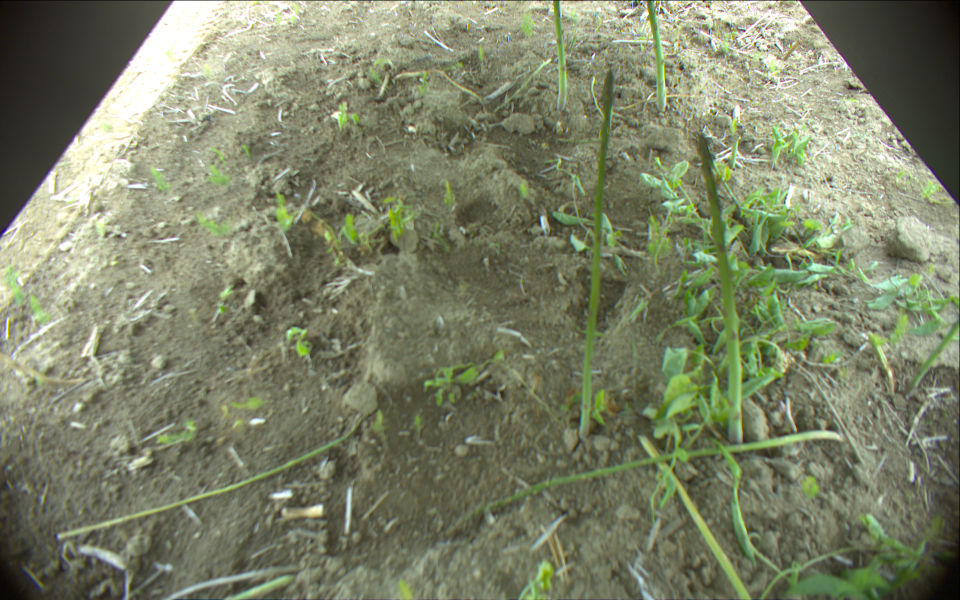aspa: (442, 430, 842, 539), (58, 416, 362, 542), (639, 437, 748, 600), (694, 131, 746, 445), (579, 69, 614, 437), (912, 314, 959, 389), (646, 1, 668, 113), (550, 1, 568, 112), (228, 575, 294, 600)
